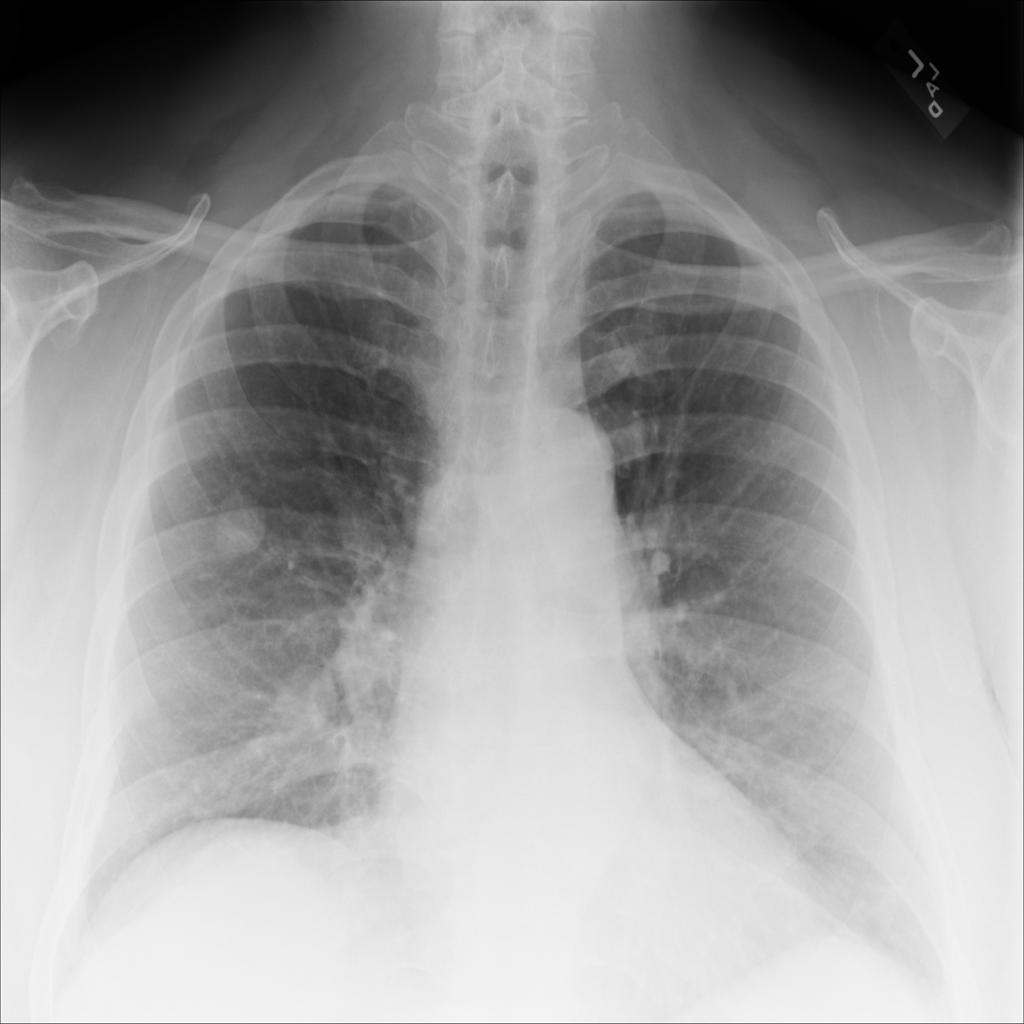nodule: (255, 646, 352, 765), (194, 465, 287, 584)
